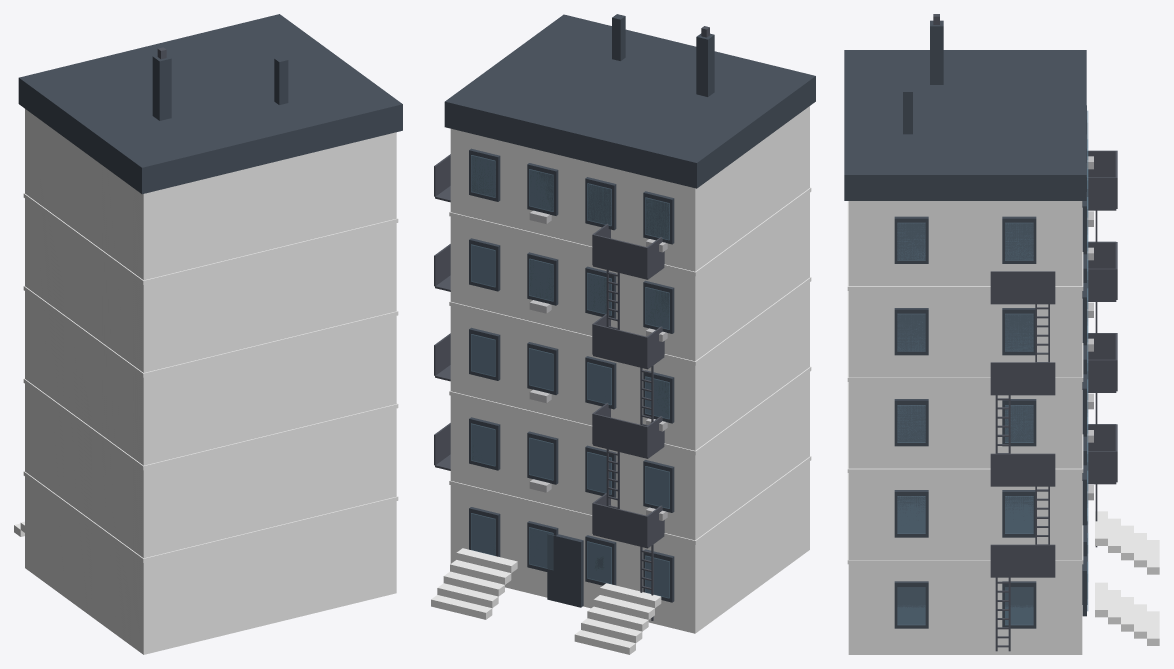
Rendered from res_building_06.glb.
3 renders of one model, left to right at view 1: azimuth 30°, elevation 25°; view 2: azimuth 150°, elevation 25°; view 3: azimuth 270°, elevation 25°, orthographic. The views are drawn at different scales.
Parts seen in each view (by area): view 1: Building, Roof, Ledge_1, Ledge_2, Ledge_4, Ledge_3, Ch1, Ch2; view 2: Building, Roof, Door, FR_F_2, FR_F_4, FR_F_1, FR_F_3, WF_1_3, WF_3_3, WF_2_3, WF_4_3, WF_4_2 (+51 smaller); view 3: Building, Roof, FR2_1, FR2_2, FR2_3, FR2_4, WS_0_0, WS_1_0, WS_2_0, WS_3_0, WS_4_0, WS_4_1 (+30 smaller).
Boxes of the visible parts, left/top/right/bottom form: Building: left=25, top=109, right=396, bottom=654; Roof: left=18, top=14, right=402, bottom=194; Ledge_1: left=23, top=471, right=398, bottom=562; Ledge_2: left=23, top=378, right=398, bottom=470; Ledge_4: left=23, top=193, right=398, bottom=284; Ledge_3: left=23, top=285, right=398, bottom=377; Ch1: left=152, top=55, right=171, bottom=120; Ch2: left=274, top=56, right=288, bottom=104; Building: left=450, top=106, right=809, bottom=633; Roof: left=444, top=14, right=815, bottom=188; Door: left=547, top=534, right=583, bottom=607; FR_F_2: left=592, top=413, right=647, bottom=457; FR_F_4: left=592, top=234, right=647, bottom=278; FR_F_1: left=592, top=503, right=647, bottom=546; FR_F_3: left=592, top=323, right=647, bottom=367; WF_1_3: left=469, top=417, right=500, bottom=470; WF_3_3: left=469, top=238, right=500, bottom=291; WF_2_3: left=469, top=327, right=500, bottom=380; WF_4_3: left=469, top=148, right=500, bottom=201; WF_4_2: left=527, top=163, right=558, bottom=215; Building: left=848, top=201, right=1082, bottom=654; Roof: left=844, top=50, right=1086, bottom=200; FR2_1: left=990, top=544, right=1055, bottom=576; FR2_2: left=990, top=453, right=1055, bottom=485; FR2_3: left=990, top=362, right=1055, bottom=393; FR2_4: left=990, top=271, right=1055, bottom=302; WS_0_0: left=894, top=581, right=928, bottom=628; WS_1_0: left=894, top=490, right=928, bottom=537; WS_2_0: left=894, top=399, right=928, bottom=446; WS_3_0: left=894, top=308, right=928, bottom=355; WS_4_0: left=894, top=216, right=928, bottom=263; WS_4_1: left=1002, top=216, right=1036, bottom=263.
Bounding box in the file's own units: 9.11 × 16.85 × 8.78.
